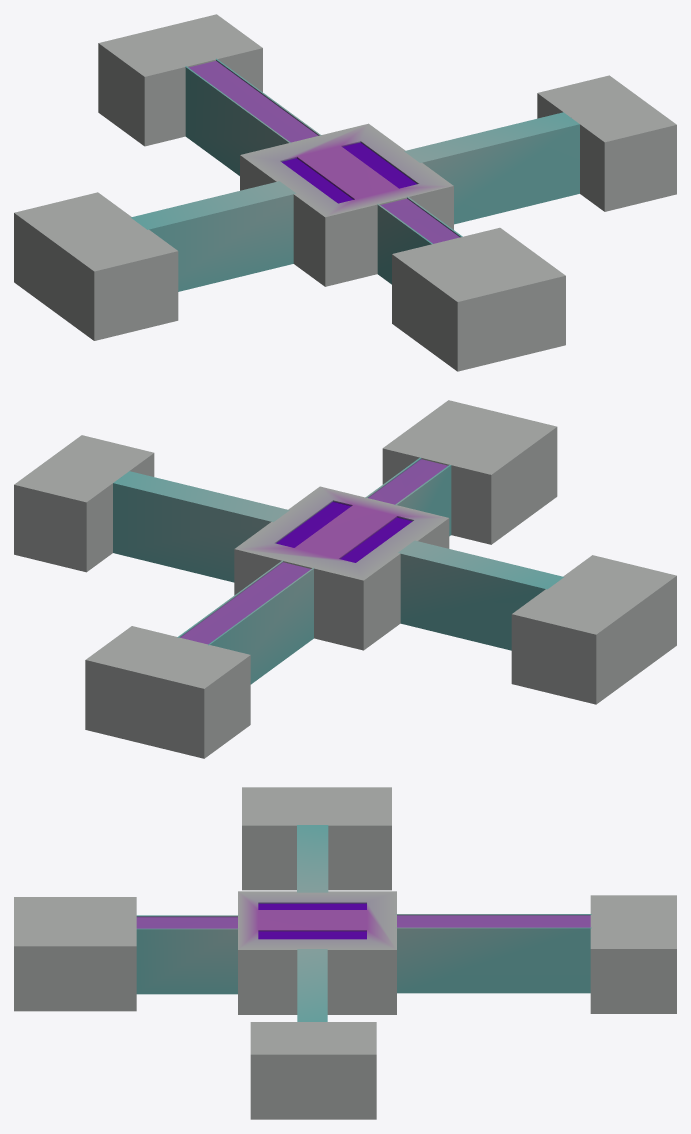
3 views of the same model, one above another, from view 1: azimuth 30°, elevation 25°; view 2: azimuth 150°, elevation 25°; view 3: azimuth 270°, elevation 25° (orthographic). The views are drawn at different scales.
Parts seen in each view (by area): view 1: terminal.002, hub, terminal, terminal.003, terminal.001, arm.001, arm, channeled_arm.001, channeled_arm; view 2: hub, terminal, terminal.003, terminal.002, terminal.001, arm.001, arm, channeled_arm.001, channeled_arm; view 3: hub, channeled_arm.001, terminal.002, terminal, terminal.001, terminal.003, channeled_arm, arm.001, arm.
Boxes of the visible parts, bbox=[...] form: terminal.002: bbox=[392, 227, 565, 371]; hub: bbox=[240, 123, 453, 286]; terminal: bbox=[14, 192, 178, 340]; terminal.003: bbox=[98, 14, 262, 146]; terminal.001: bbox=[537, 75, 676, 211]; arm.001: bbox=[404, 112, 579, 224]; arm: bbox=[131, 181, 295, 291]; channeled_arm.001: bbox=[185, 58, 321, 175]; channeled_arm: bbox=[377, 196, 462, 284]; hub: bbox=[234, 486, 449, 650]; terminal: bbox=[511, 555, 676, 704]; terminal.003: bbox=[85, 626, 250, 758]; terminal.002: bbox=[382, 400, 557, 544]; terminal.001: bbox=[14, 435, 154, 572]; arm.001: bbox=[113, 471, 289, 582]; arm: bbox=[398, 540, 563, 650]; channeled_arm.001: bbox=[177, 560, 314, 684]; channeled_arm: bbox=[365, 457, 451, 536]; hub: bbox=[238, 891, 396, 1014]; channeled_arm.001: bbox=[395, 914, 591, 993]; terminal.002: bbox=[14, 897, 136, 1011]; terminal: bbox=[242, 787, 391, 890]; terminal.001: bbox=[250, 1022, 376, 1119]; terminal.003: bbox=[590, 895, 676, 1013]; channeled_arm: bbox=[136, 915, 239, 994]; arm.001: bbox=[297, 949, 327, 1021]; arm: bbox=[297, 825, 328, 892].
Bounding box in the file's own units: 95.49 × 10.81 × 100.
